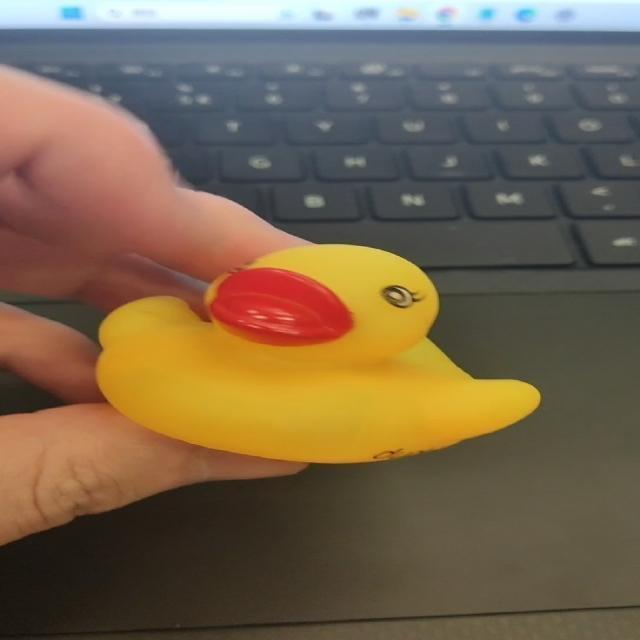rubber-duck: (96, 244, 538, 461)
